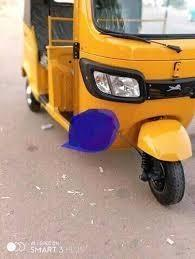keke: (21, 0, 195, 210)
